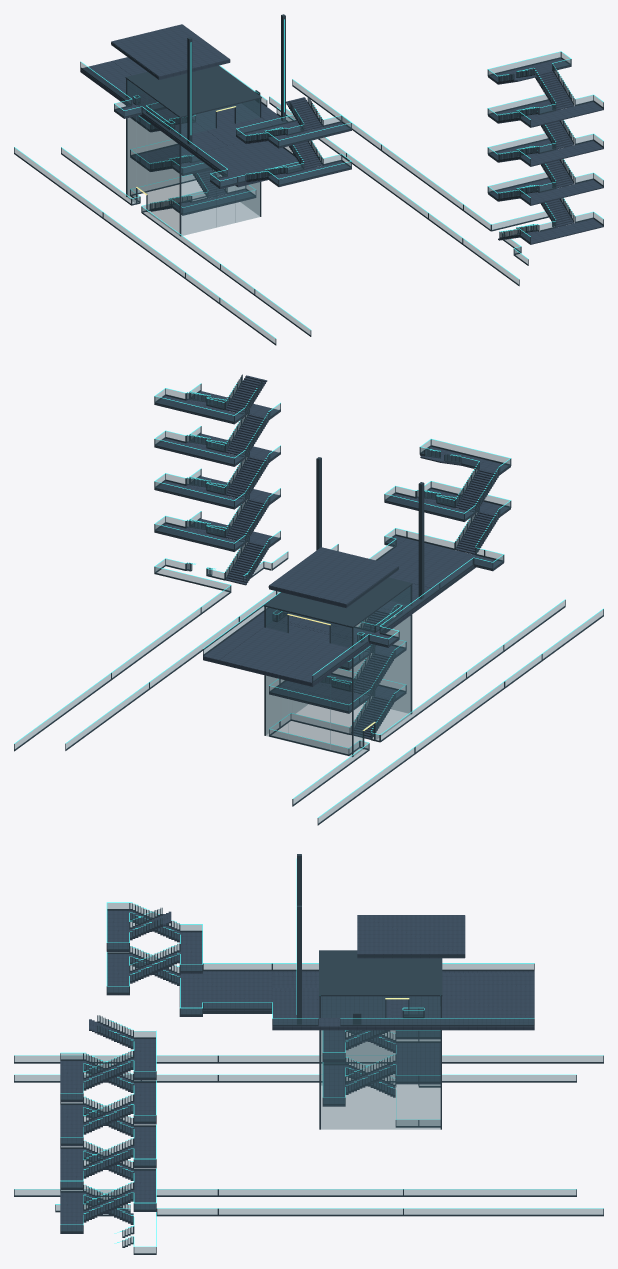
File: v02-detailed-03-06-station.glb
The picture shows the model from 3 angles, top to bottom: view 1: azimuth 30°, elevation 25°; view 2: azimuth 150°, elevation 25°; view 3: azimuth 270°, elevation 25°; orthographic projection. The views are drawn at different scales.
Visible parts, largest first — view 1: v02-detailed-03-06-station; view 2: v02-detailed-03-06-station; view 3: v02-detailed-03-06-station.
Part boxes in pixels (bbox=[...]): v02-detailed-03-06-station: bbox=[14, 14, 603, 345]; v02-detailed-03-06-station: bbox=[14, 374, 603, 825]; v02-detailed-03-06-station: bbox=[14, 854, 603, 1254].
Size of the model in its own units: 58.79 by 33.53 by 76.5.
Materials: 5 (1 with a texture image).
